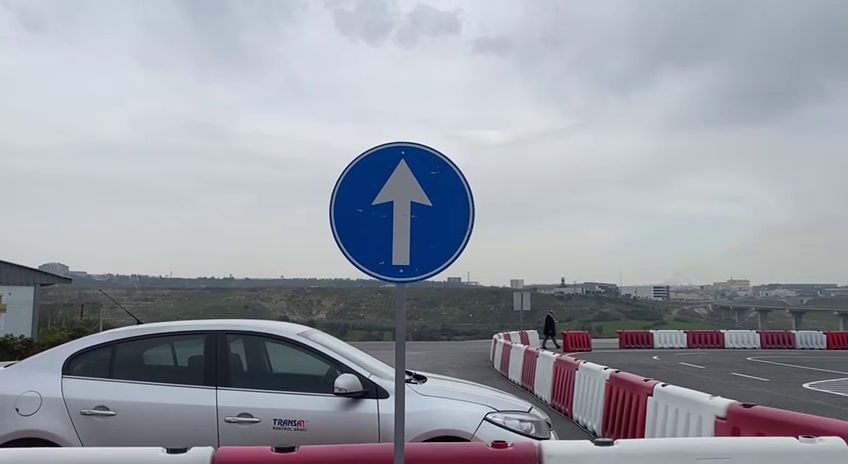forward: (326, 137, 476, 284)
